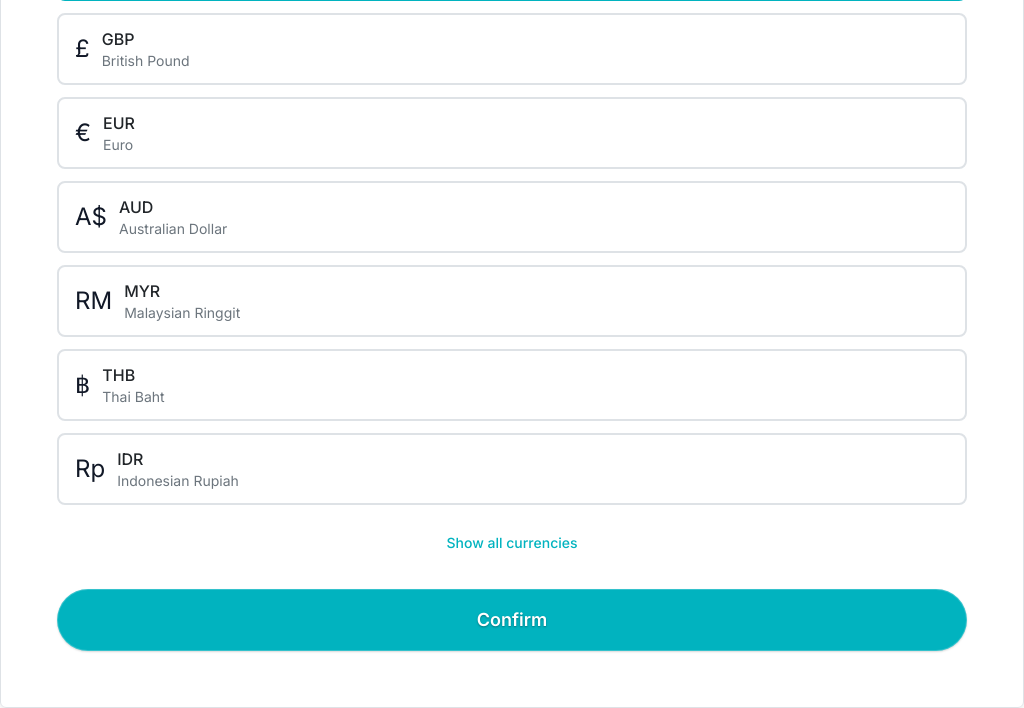
Test case: MenuCurrencyOnboarding › Show All Currencies › filters currencies based on search query (by code)
(page scrolled)
Show all currencies
Click the button "Show all currencies" at (512, 543), box [57,521,967,565]
(page scrolled)
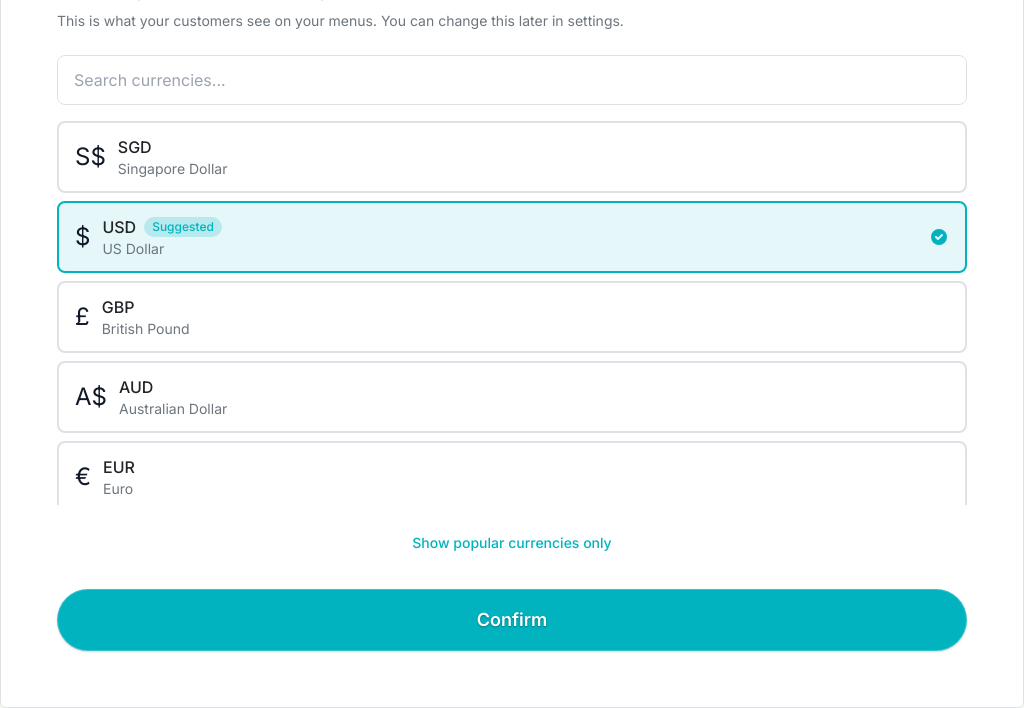
Search for "JPY"
Type "JPY" into the field with placeholder "Search currencies..." at (512, 80), box [57,55,967,105]
(page scrolled)
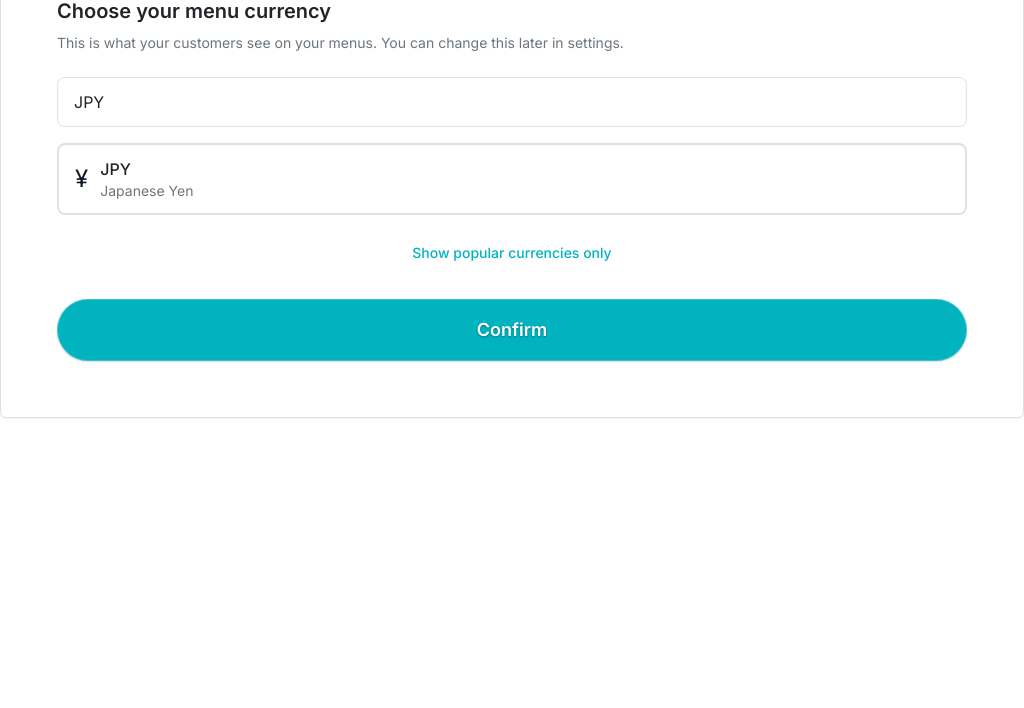
Expected: the text "JPY" is shown, [100,159,131,179]
Expected: the text "Japanese Yen" is shown, [100,181,193,201]
